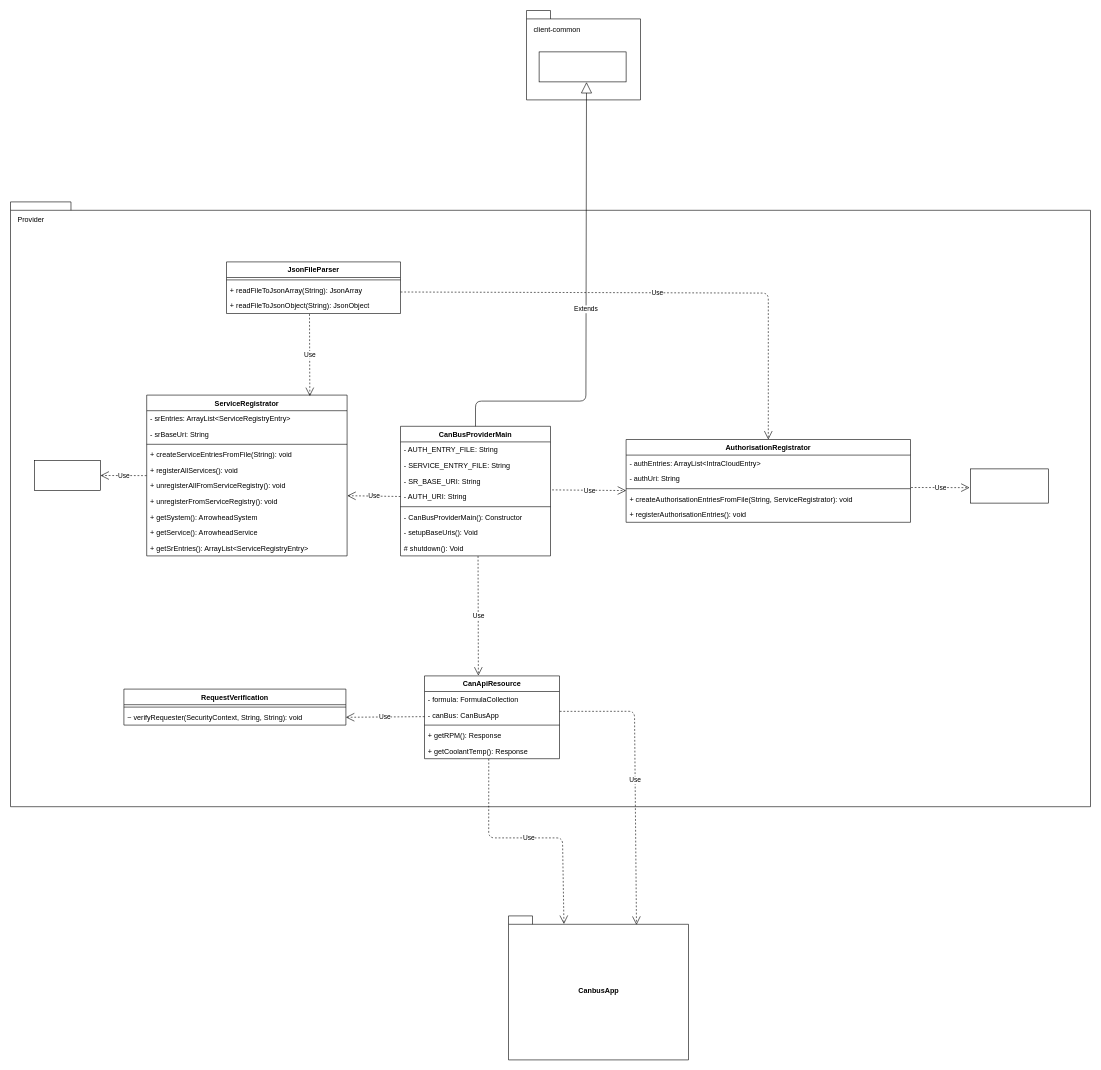
Image size: 1101x1070. Some labels were removed from this diagram. Each missing label, with the centre of its shape:
"ArrowheadClientMain" belongs at (x=582, y=66).
"consumerList.json" belongs at (x=1009, y=485).
"serviceList.json" belongs at (x=67, y=475).
